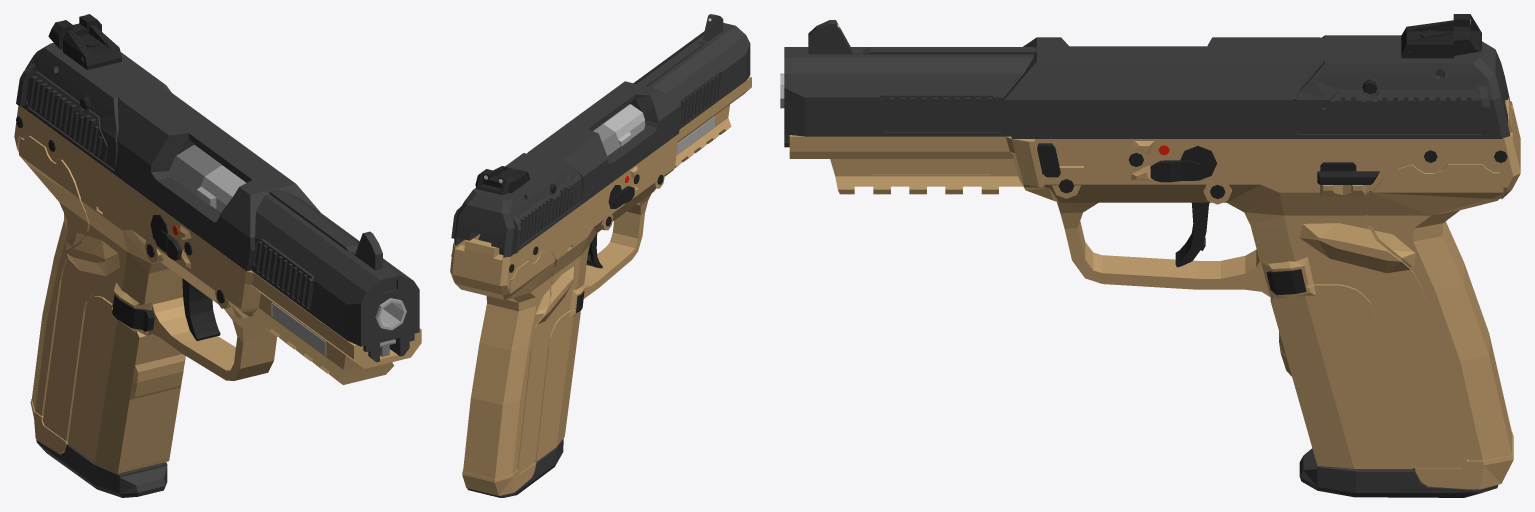
3 renders of one model, left to right at view 1: azimuth 30°, elevation 25°; view 2: azimuth 150°, elevation 25°; view 3: azimuth 270°, elevation 25°, orthographic. The views are drawn at different scales.
Parts seen in each view (by area): view 1: Object_2, Object_6, Object_7, Object_8, Object_10; view 2: Object_2, Object_6, Object_7, Object_8, Object_10; view 3: Object_2, Object_6, Object_7.
Boxes of the visible parts, x1,y1,x2,y2 form: Object_2: (14, 105, 421, 473); Object_6: (16, 42, 419, 497); Object_7: (16, 14, 224, 340); Object_8: (197, 165, 406, 355); Object_10: (169, 145, 395, 356); Object_2: (450, 76, 751, 495); Object_6: (451, 14, 750, 497); Object_7: (451, 166, 663, 312); Object_8: (603, 104, 715, 154); Object_10: (593, 124, 620, 155); Object_2: (789, 98, 1520, 489); Object_6: (784, 20, 1510, 497); Object_7: (1037, 14, 1507, 295).
Size of the model in its own units: 0.0369 by 0.1687 by 0.2454.
